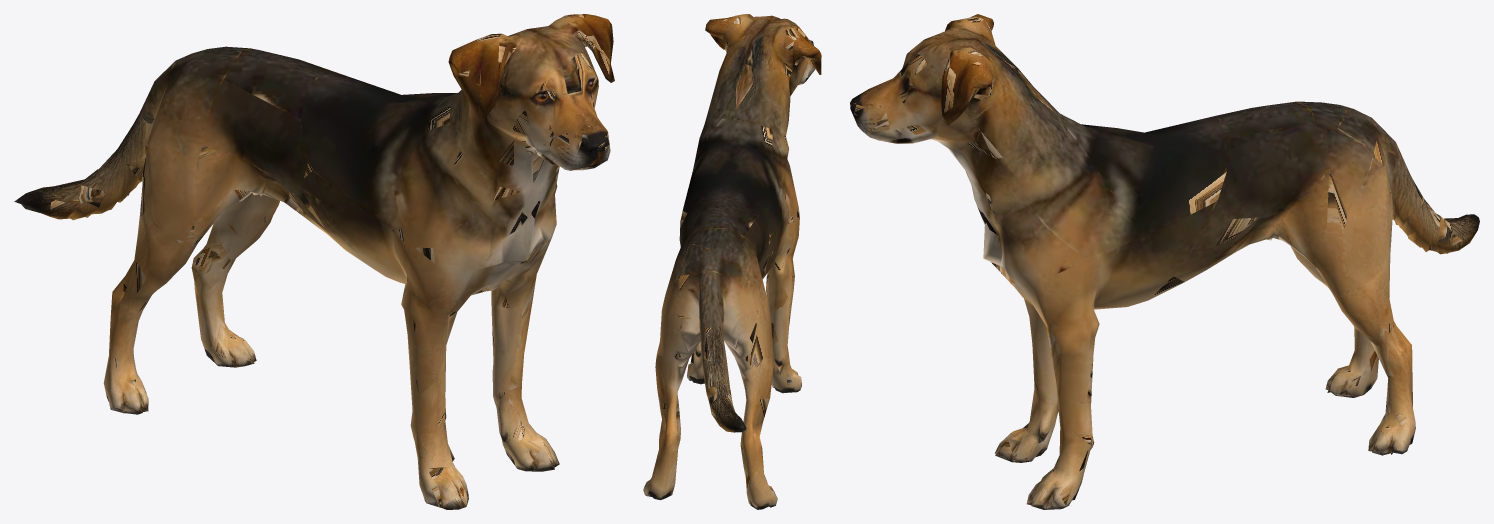
File: dog.glb
3 renders of one model, left to right at view 1: azimuth 30°, elevation 25°; view 2: azimuth 150°, elevation 25°; view 3: azimuth 270°, elevation 25°, orthographic. The views are drawn at different scales.
Visible parts, largest first — view 1: dog; view 2: dog; view 3: dog.
Boxes of the visible parts, x1,y1,x2,y2 form: dog: (14, 14, 614, 509); dog: (643, 14, 821, 509); dog: (850, 14, 1479, 509).
Size of the model in its own units: 0.5282 by 0.744 by 0.947.
Materials: 1 (1 with a texture image).
